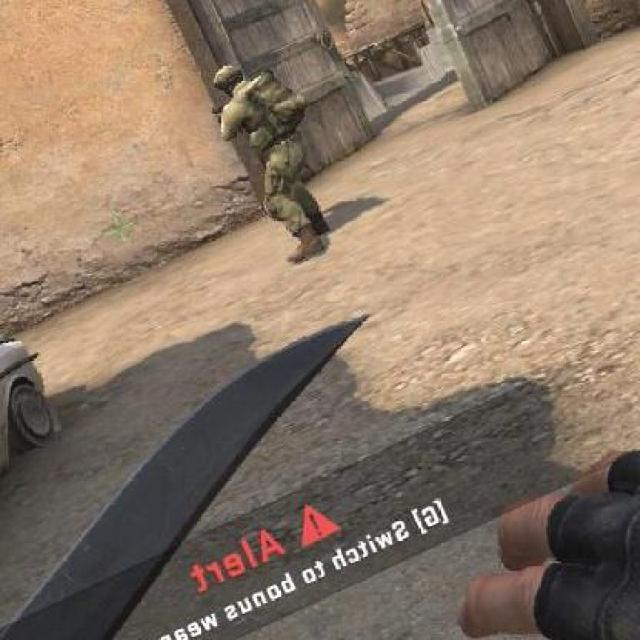CT: (208, 62, 332, 258)
CT_HEAD: (212, 63, 242, 88)
